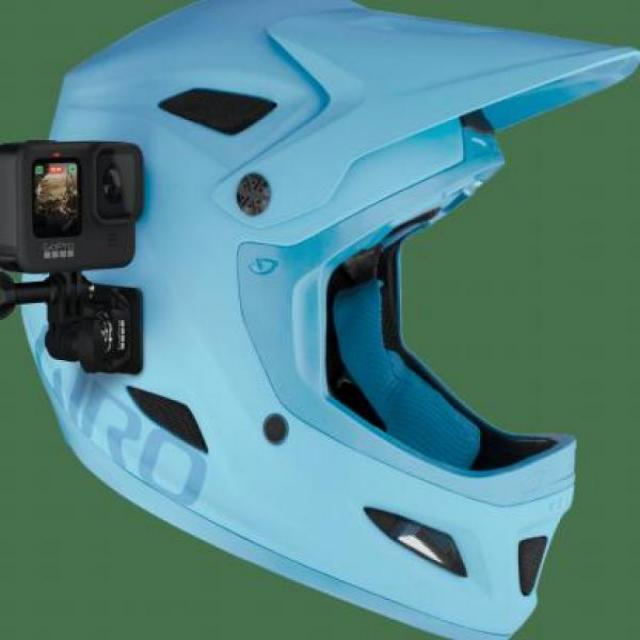Helmet: (27, 2, 608, 615)
